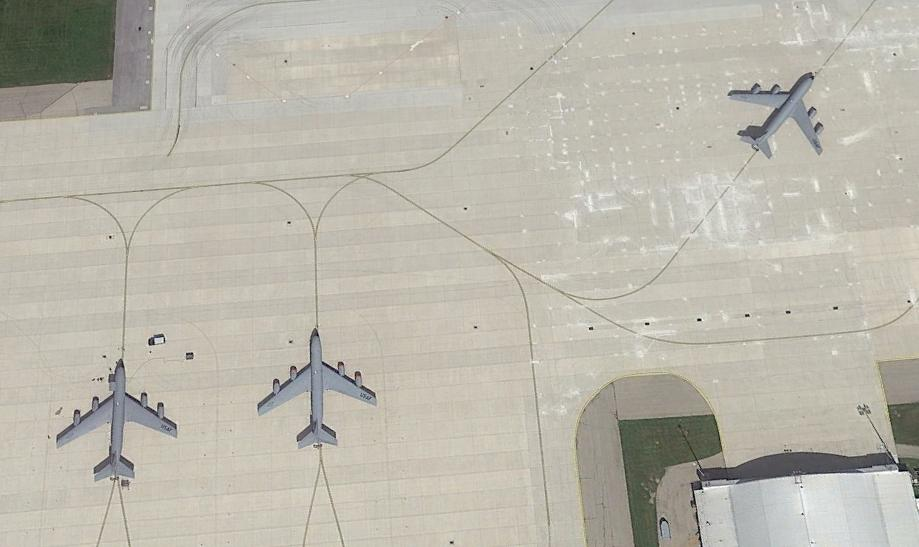KC-135: (53, 360, 184, 486), (253, 320, 378, 447), (727, 65, 836, 161)
